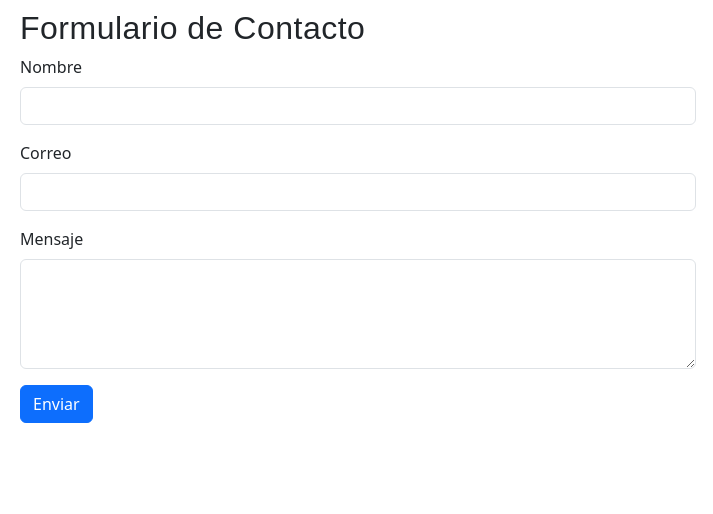
Test: Componente Contacto › 14. Debe mostrar error si se envía vacío
Click the button "Enviar" at (56, 404), box [20, 385, 93, 423]
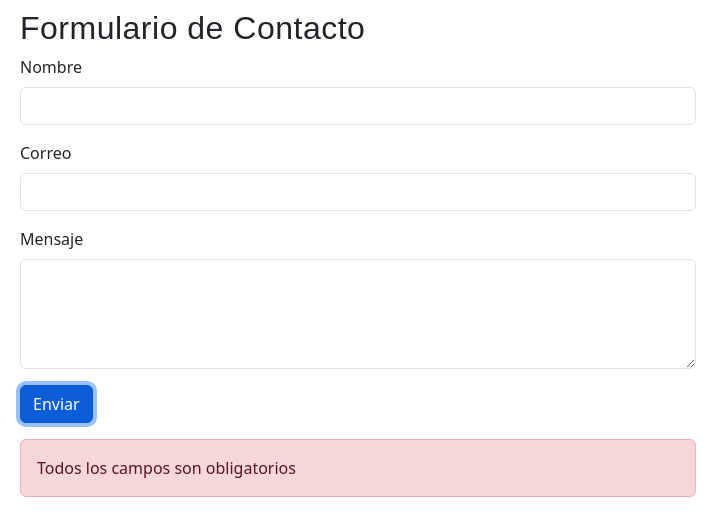
Expected: the text "Todos los campos son obligatorios" is shown, [20, 439, 696, 497]
